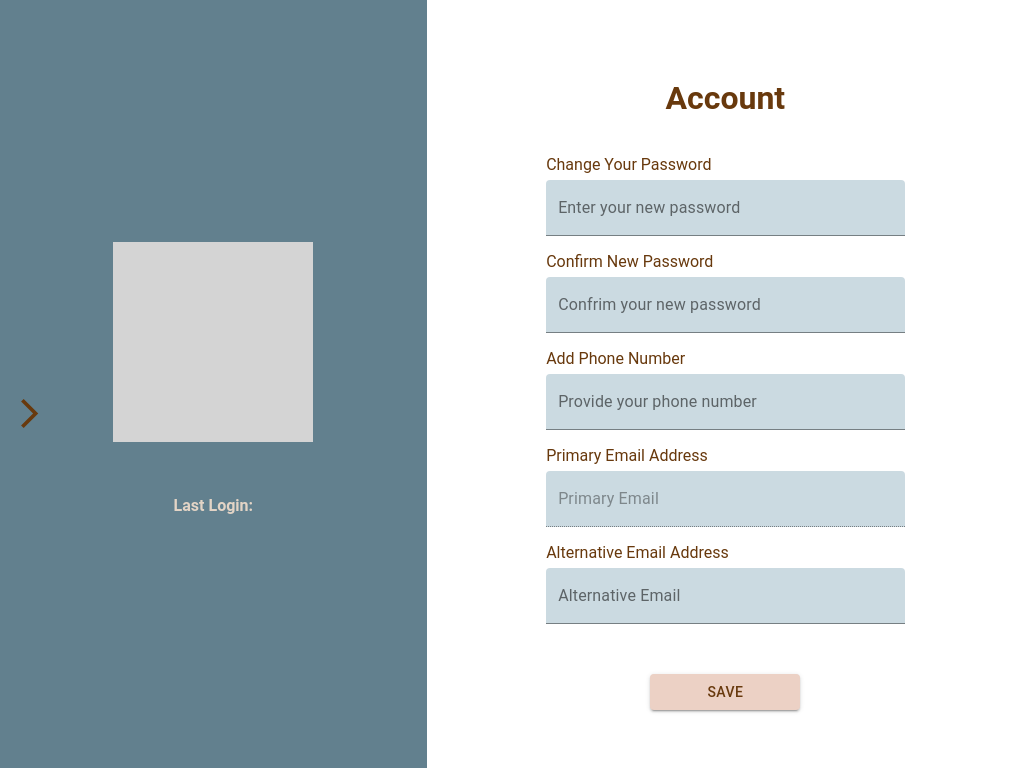
Test case: Testing <AccountInfo /> Component › should show side drawer
Click the button with id "side-drawer-button" at (30, 414), box [0,384,59,443]
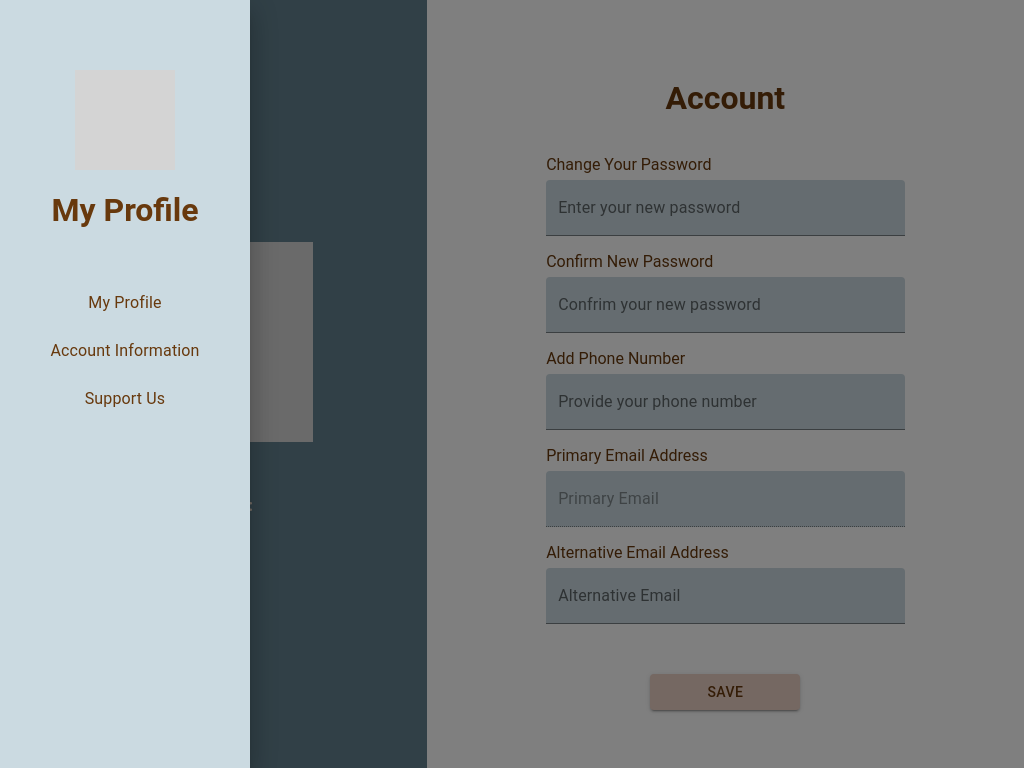
Expected: the element with id "side-drawer-id" is shown, [0,0,250,767]
